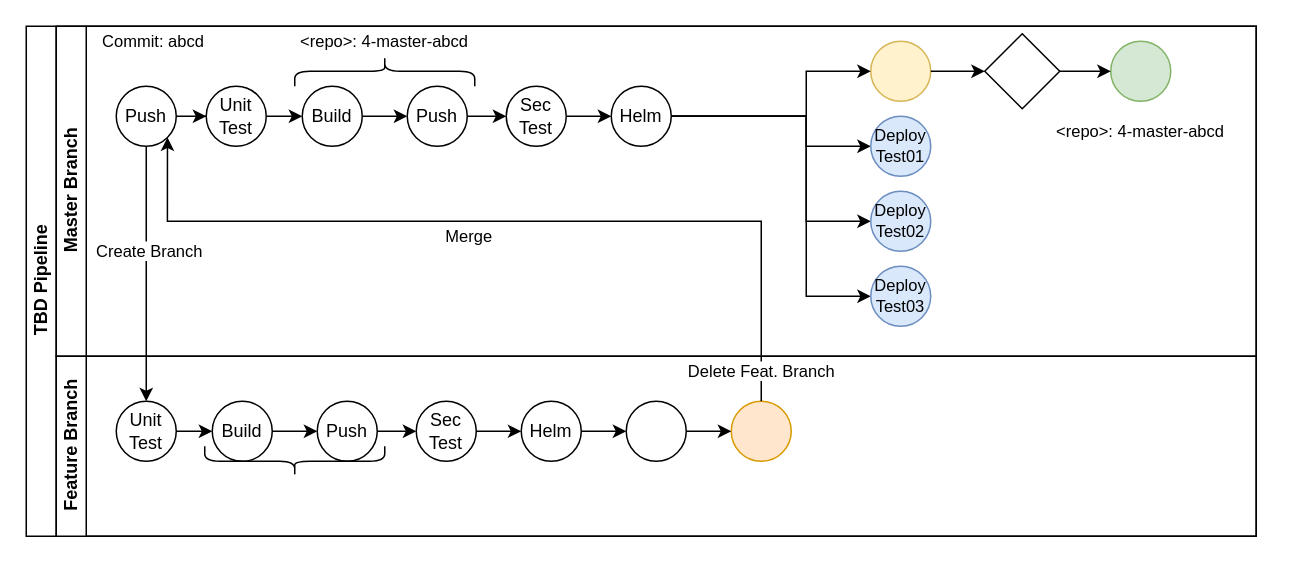
Image size: 1295x563. Some labels were removed from this diagram. Each missing label, with the centre of its shape:
<repo>: 5-feature-abcd: the point at 294,460
Auth: the point at 1021,70
Create Cluster: the point at 655,430
Deploy Feat.: the point at 760,430
Deploy Prod: the point at 1140,70
Deploy Staging: the point at 900,70
